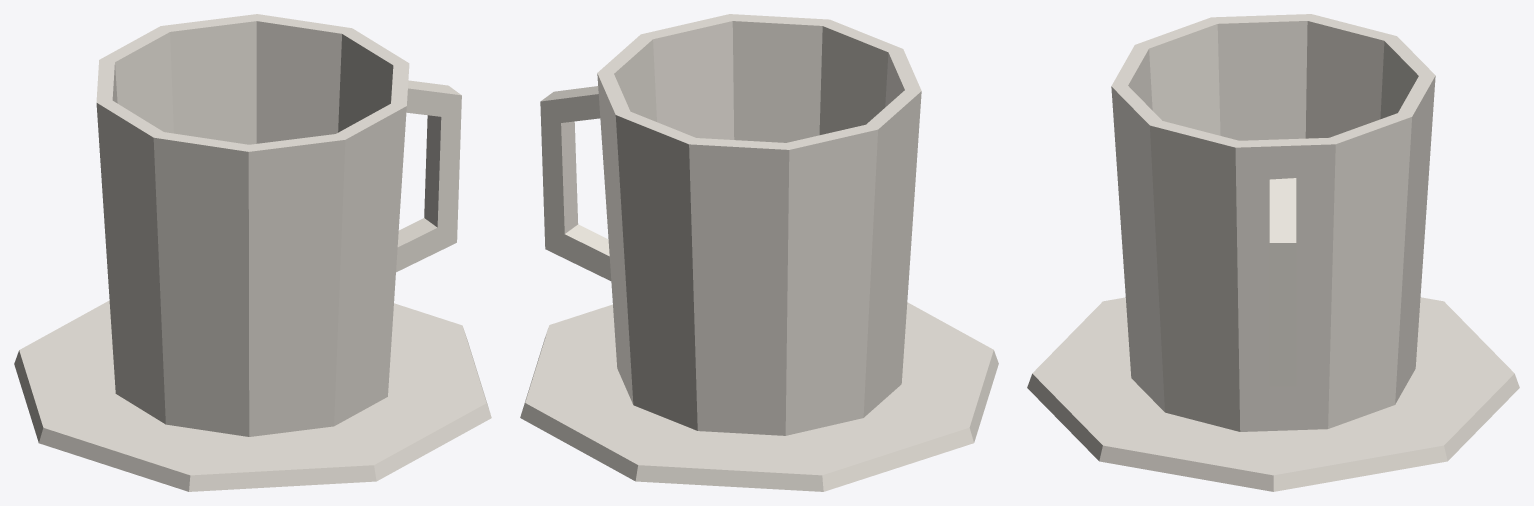
The model's file is Cup_2.fbx.
3 renders of one model, left to right at view 1: azimuth 30°, elevation 25°; view 2: azimuth 150°, elevation 25°; view 3: azimuth 270°, elevation 25°, orthographic.
Parts seen in each view (by area): view 1: polySurface1540; view 2: polySurface1540; view 3: polySurface1540.
Part boxes in pixels (x1,y1,x2,y2): polySurface1540: (14,14,491,491); polySurface1540: (520,14,998,491); polySurface1540: (1027,14,1519,491).
Size of the model in its own units: 0.303 by 0.2083 by 0.303.
1 material, 1 textured.
